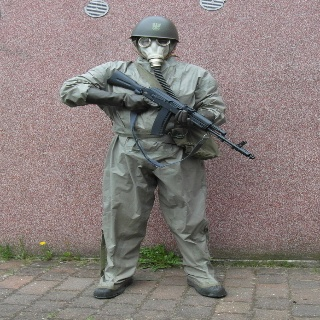rifle: (103, 66, 256, 166)
